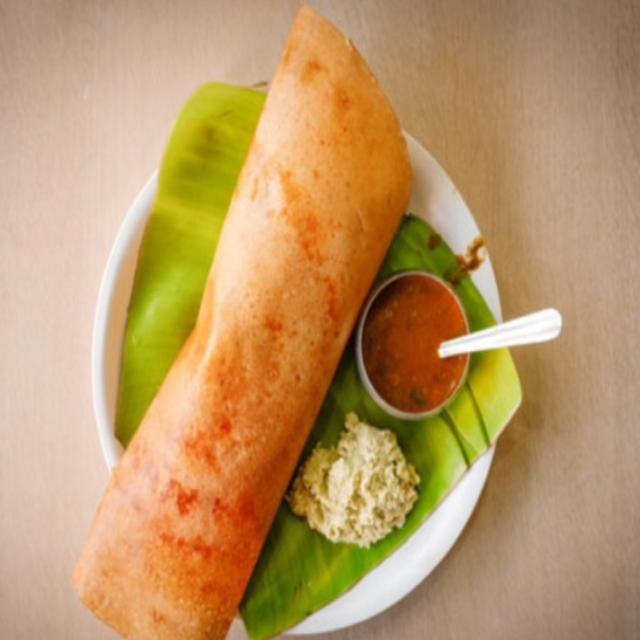DOSA: (73, 7, 410, 639)
SAMBAR: (362, 274, 467, 414)
WHITE CHUTNEY: (287, 412, 419, 548)
